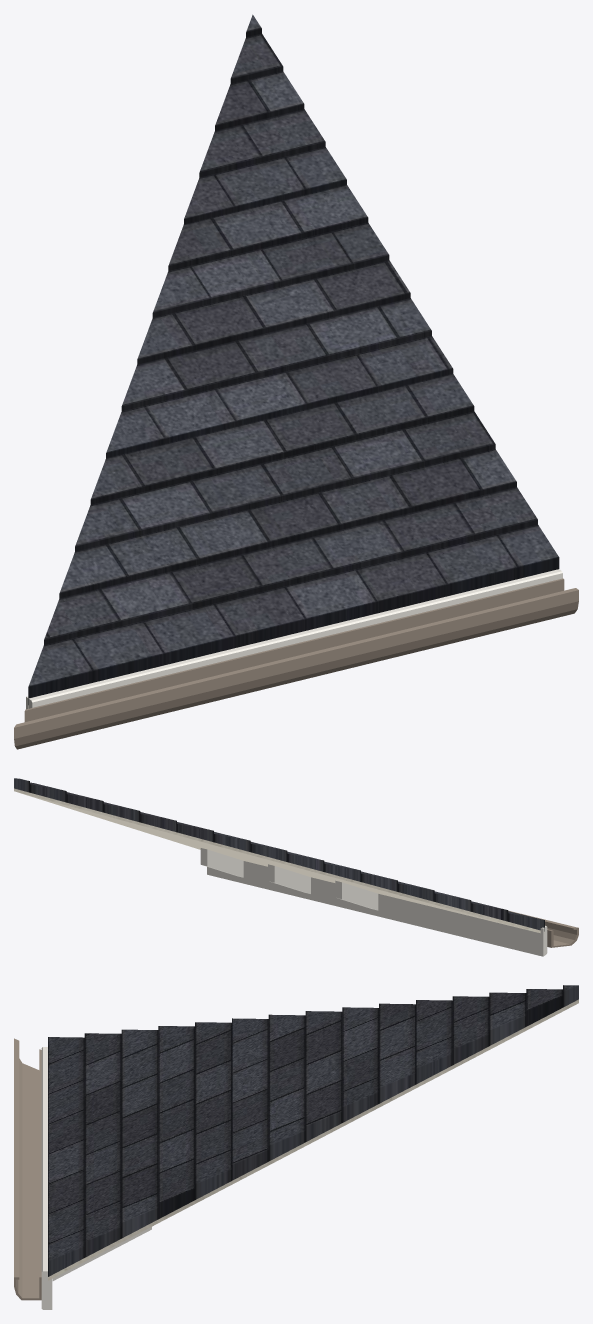
Rendered from roof_hip_5_l.glb.
3 renders of one model, top to bottom at view 1: azimuth 30°, elevation 25°; view 2: azimuth 150°, elevation 25°; view 3: azimuth 270°, elevation 25°, orthographic. The views are drawn at different scales.
Parts seen in each view (by area): view 1: roof_hip_5_l_shingles, roof_hip_5_l_gutter, roof_hip_5_l_trim; view 2: roof_hip_5_l_trim, roof_hip_5_l_shingles, roof_hip_5_l_plaster, roof_hip_5_l_gutter; view 3: roof_hip_5_l_shingles, roof_hip_5_l_gutter, roof_hip_5_l_plaster, roof_hip_5_l_trim.
Boxes of the visible parts, box(x1,y1,x2,y2) form: roof_hip_5_l_shingles: box(28, 14, 559, 704); roof_hip_5_l_gutter: box(14, 578, 578, 749); roof_hip_5_l_trim: box(26, 569, 562, 709); roof_hip_5_l_trim: box(200, 848, 547, 956); roof_hip_5_l_shingles: box(14, 778, 544, 931); roof_hip_5_l_plaster: box(14, 788, 544, 933); roof_hip_5_l_gutter: box(508, 910, 578, 947); roof_hip_5_l_shingles: box(48, 985, 578, 1276); roof_hip_5_l_gutter: box(14, 1038, 41, 1300); roof_hip_5_l_plaster: box(48, 999, 578, 1280); roof_hip_5_l_trim: box(41, 1047, 151, 1309).
Bounding box in the file's own units: 2.66 × 1.69 × 2.66.
4 materials, 2 textured.
